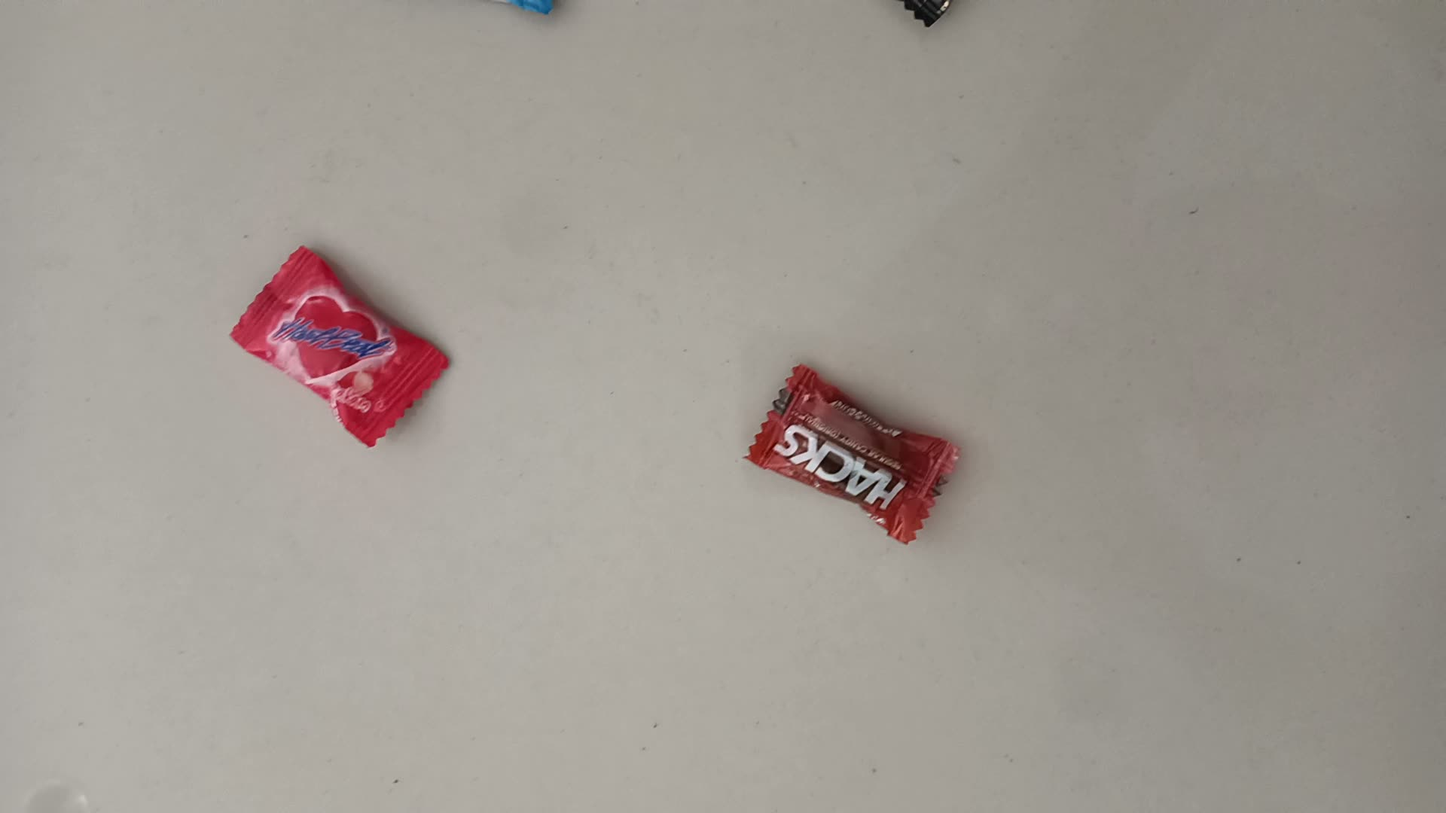HACK: (802, 348, 1001, 468)
HB: (295, 236, 498, 358)
